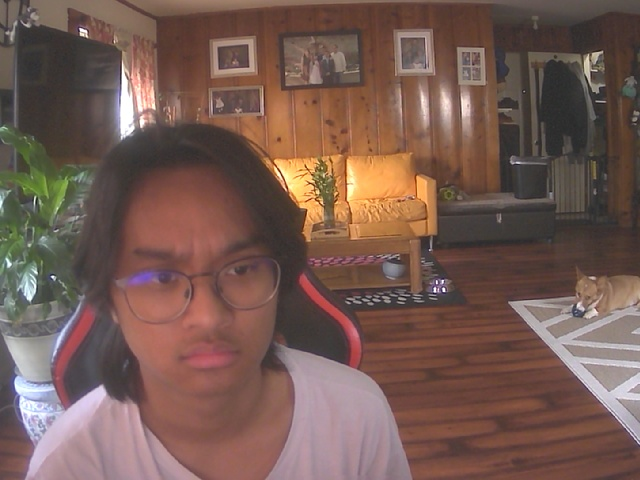anger: (103, 143, 293, 400)
